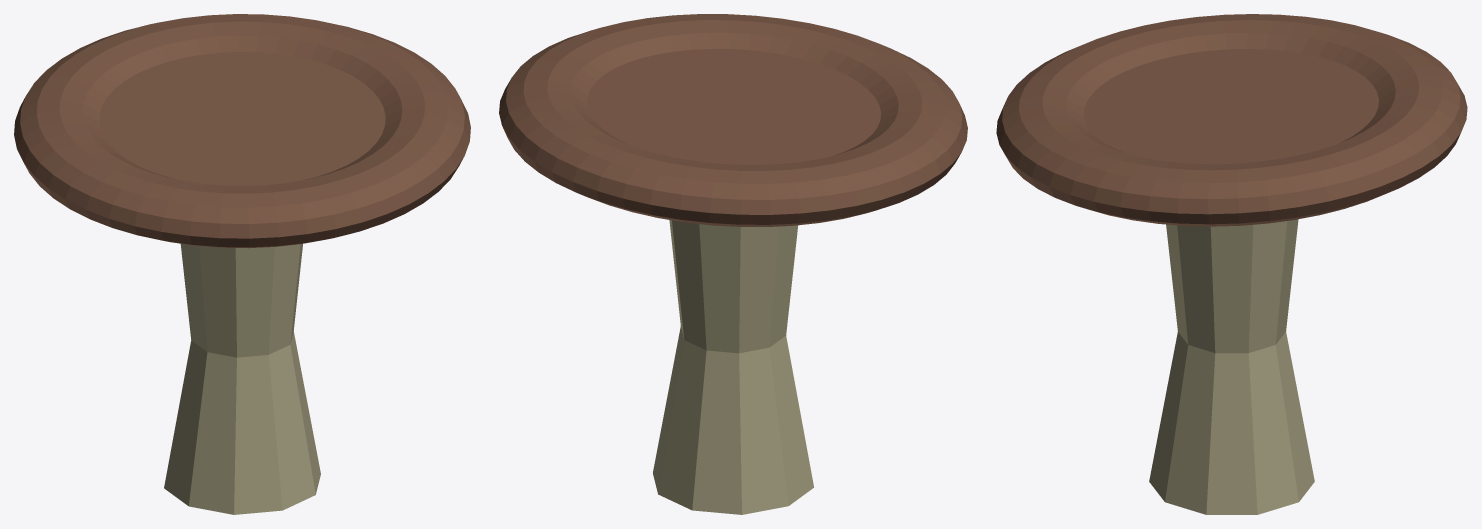
The model's file is brownMushroom.fbx.
3 renders of one model, left to right at view 1: azimuth 30°, elevation 25°; view 2: azimuth 150°, elevation 25°; view 3: azimuth 270°, elevation 25°, orthographic. The views are drawn at different scales.
Parts seen in each view (by area): view 1: Cylinder; view 2: Cylinder; view 3: Cylinder.
Part boxes in pixels (x1,y1,x2,y2): Cylinder: (14,14,470,514); Cylinder: (499,14,967,514); Cylinder: (996,14,1467,514).
Bounding box in the file's own units: 73.37 × 67.9 × 73.33.
